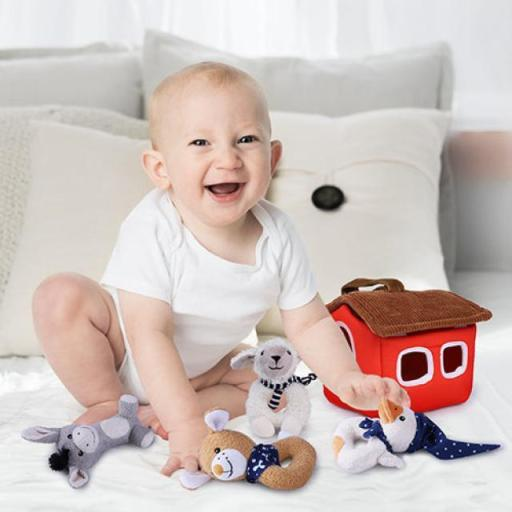baby: (33, 63, 409, 475)
